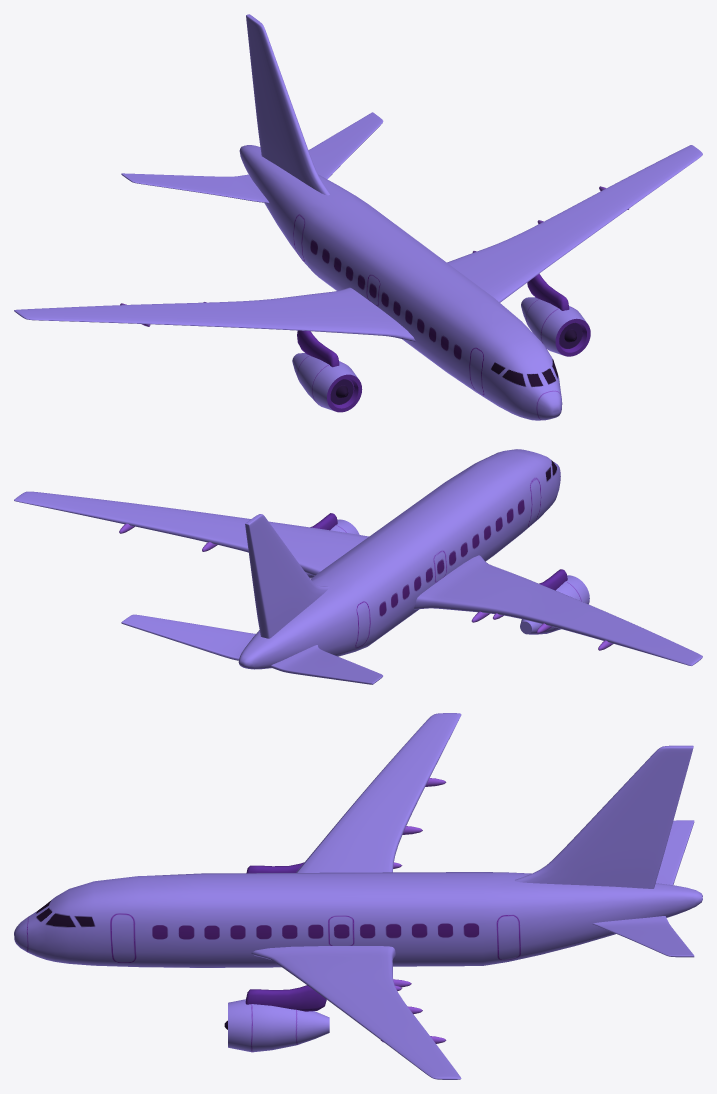
Rendered from airbus318_purple.glb.
The picture shows the model from 3 angles, top to bottom: view 1: azimuth 30°, elevation 25°; view 2: azimuth 150°, elevation 25°; view 3: azimuth 270°, elevation 25°; orthographic projection. The views are drawn at different scales.
Parts seen in each view (by area): view 1: airbus318, wings, wing-back-vertical, turbine, wings-back-horizontal, turbine-pad; view 2: airbus318, wings, wing-back-vertical, wings-back-horizontal, turbine, turbine-pad; view 3: airbus318, wings, wing-back-vertical, turbine, wings-back-horizontal, turbine-pad.
Part boxes in pixels (x1,y1,x2,y2): airbus318: [239, 145, 562, 420]; wings: [14, 145, 702, 341]; wing-back-vertical: [246, 14, 329, 195]; turbine: [292, 297, 590, 412]; wings-back-horizontal: [121, 112, 383, 203]; turbine-pad: [297, 273, 569, 367]; airbus318: [238, 449, 560, 669]; wings: [14, 491, 702, 665]; wing-back-vertical: [245, 514, 329, 638]; wings-back-horizontal: [121, 614, 382, 684]; turbine: [306, 519, 589, 634]; turbine-pad: [310, 513, 567, 590]; airbus318: [14, 872, 702, 967]; wings: [251, 713, 461, 1079]; wing-back-vertical: [515, 745, 693, 888]; turbine: [224, 999, 329, 1052]; wings-back-horizontal: [592, 820, 694, 957]; turbine-pad: [245, 862, 326, 1011].
Bounding box in the file's own units: 4.66 × 1.44 × 3.71.
1 material, 1 textured.
